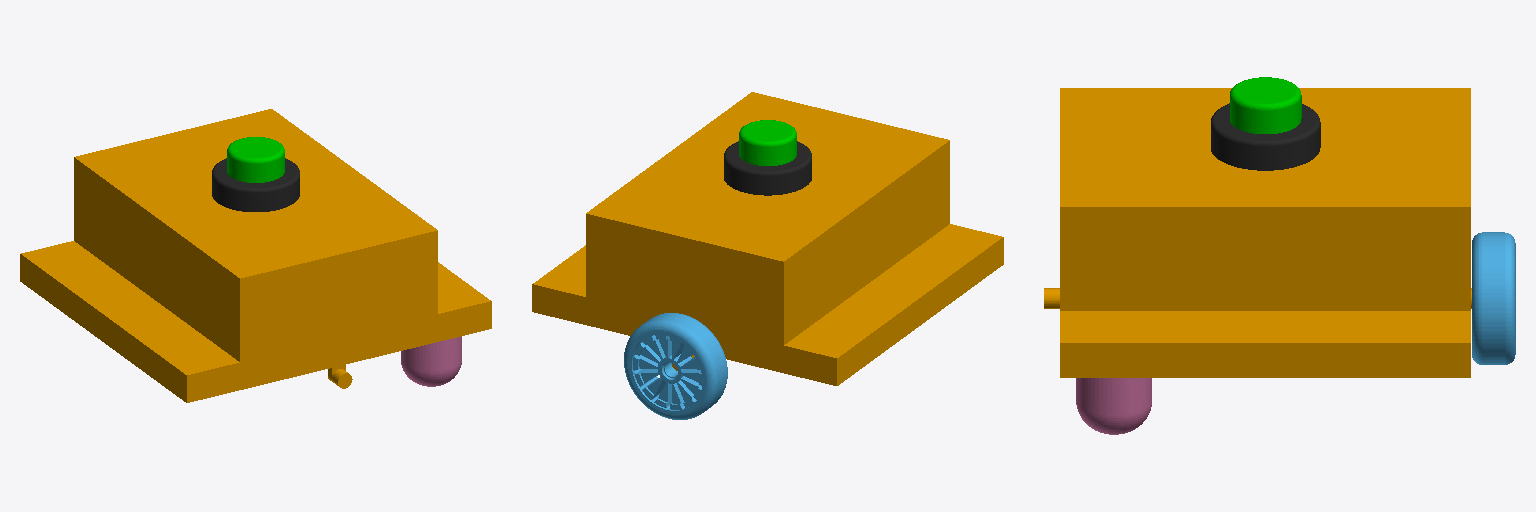
The robot description file, URDF, robot "sandee":
<?xml version="1.0" ?>

<robot name = "sandee">

<!--base-->

    <link name ="base_link">
        <visual>

            <origin xyz = "0 0 0" rpy = "0 0 0"/>
            <geometry>
                <mesh filename = "package://urdf_sim/model/meshes/Base.stl"/>      
            </geometry>

        </visual>

        <inertial>
            <mass value = "15"/> <!-- Kg -->
            <inertia ixx = "0.000214" ixy = "0.0" ixz = "0.0" iyy = "0.000156" iyz = "0.0" izz = "0.000315"/>
        </inertial>

        <collision>
            <origin xyz = "0 0 0" rpy = "0 0 0"/>
            <geometry>
                <mesh filename = "package://urdf_sim/model/meshes/Base.stl"/>       
            </geometry>
        </collision>

    </link>
    
    

<!--left_wheel-->

    <link name ="left_wheel_link">
        <visual>
            <origin xyz = "0 0 0" rpy = "0 0 0"/>
            <geometry>
                <mesh filename = "package://urdf_sim/model/meshes/Wheel_L.stl"/>         
            </geometry>
        </visual>

        <inertial>
            <mass value = "0.5"/> <!-- Kg -->
            <inertia ixx = "0.0" ixy = "0.0" ixz = "0.0" iyy = "0.000001" iyz = "0.0" izz = "0.0"/>
        </inertial>

        <collision>
            <origin xyz = "0 0 0" rpy = "0 0 0"/>
            <geometry>
                <mesh filename = "package://urdf_sim/model/meshes/Wheel_L.stl"/>       
            </geometry>
        </collision>

    </link>
       
    <joint name ="left_wheel_joint" type = "continuous">
        <origin xyz = "0 0.21 -0.0068" rpy = "0 0 0"/>
        <parent link = "base_link"/>
        <child link = "left_wheel_link"/>
        <limit effort = "30" velocity = "10"/>
        <axis rpy = "0 0 0" xyz = "0 1 0"/>
    </joint>


<!--right_wheel-->

    <link name ="right_wheel_link">
        <visual>
            <origin xyz = "0 0 0" rpy = "0 0 0"/>
            <geometry>
                <mesh filename = "package://urdf_sim/model/meshes/Wheel_R.stl"/>         
            </geometry>           
        </visual>

        <inertial>
            <mass value = "0.5"/> <!-- Kg -->
            <inertia ixx = "0.0" ixy = "0.0" ixz = "0.0" iyy = "0.000001" iyz = "0.0" izz = "0.0"/>
        </inertial>

        <collision>
            <origin xyz = "0 0 0" rpy = "0 0 0"/>
            <geometry>
                <mesh filename = "package://urdf_sim/model/meshes/Wheel_R.stl"/>       
            </geometry>
        </collision>

    </link>
       
    <joint name ="right_wheel_joint" type = "continuous">
        <origin xyz = "0 -0.21 -0.0068" rpy = "0 0 0"/>
        <parent link = "base_link"/>
        <child link = "right_wheel_link"/>
        <limit effort = "30" velocity = "10"/>
        <axis rpy = "0 0 0" xyz = "0 1 0"/>
    </joint>

<!--lidar_down-->

    <link name ="lidar_down_link">
        <visual>
            <origin xyz = "0 0 0" rpy = "0 0 0"/>
            <geometry>
                <mesh filename = "package://urdf_sim/model/meshes/Lidar_Down.stl"/>         
            </geometry>
            <material name="grey">
                <color rgba="0.2 0.2 0.2 1.0"/>
            </material>
        </visual>
        
        <inertial>
            <mass value = "0.15"/> <!-- Kg -->
            <inertia ixx = "0.0" ixy = "0.0" ixz = "0.0" iyy = "0.0" iyz = "0.0" izz = "0.0"/>
        </inertial>

        <collision>
            <origin xyz = "0 0 0" rpy = "0 0 0"/>
            <geometry>
                <mesh filename = "package://urdf_sim/model/meshes/Lidar_Down.stl"/>       
            </geometry>
        </collision>
 
    </link>
       
    <joint name ="lidar_down_joint" type = "fixed">
        <origin xyz = "0 0 0.172" rpy = "0 0 0"/>
        <parent link = "base_link"/>
        <child link = "lidar_down_link"/>
        <limit effort = "0" velocity = "0"/>
        <axis rpy = "0 0 0" xyz = "0 0 0"/>
    </joint>

<!--lidar_up-->
    <link name = "lidar_up_link">
        <visual>
            <origin xyz = "0 0 0" rpy = "0 0 0"/>
            <geometry>
                <mesh filename = "package://urdf_sim/model/meshes/Lidar_Up.stl"/>        
            </geometry>
            <material name="green">
                <color rgba="0.0 0.8 0.0 1.0"/>
            </material>
        </visual>

        <inertial>
            <mass value = "0.05"/> <!-- Kg -->
            <inertia ixx = "0.0" ixy = "0.0" ixz = "0.0" iyy = "0.0" iyz = "0.0" izz = "0.0"/>
        </inertial>

        <collision>
            <origin xyz = "0 0 0" rpy = "0 0 0"/>
            <geometry>
                <mesh filename = "package://urdf_sim/model/meshes/Lidar_Up.stl"/>       
            </geometry>
        </collision>

   </link>

    <joint name = "lidar_up_joint" type = "fixed">
        <origin xyz = "0 0 0.2" rpy = "0 0 0"/>
        <parent link = "base_link"/>
        <child link = "lidar_up_link"/>
        <limit effort = "0" velocity = "0"/>
        <axis rpy = "0 0 0" xyz = "0 0 0"/>
    </joint>

    <!--caster1-->

    <link name = "caster1_link">
        <visual>
            <origin xyz = "0 0 0" rpy = "0 0 0"/>
            <geometry>
                <mesh filename = "package://urdf_sim/model/meshes/Caster1.stl"/>        
            </geometry>
        </visual>

        <inertial>
            <mass value = "0.5"/> <!-- Kg -->
            <inertia ixx = "0.0" ixy = "0.0" ixz = "0.0" iyy = "0.0" iyz = "0.0" izz = "0.0"/>
        </inertial>

        <collision>
            <origin xyz = "0 0 0" rpy = "0 0 0"/>
            <geometry>
                <mesh filename = "package://urdf_sim/model/meshes/Caster1.stl"/>       
            </geometry>
        </collision>

    </link>

    <joint name = "caster1_joint" type = "fixed">
        <origin xyz = "0.15 0.139 -0.055" rpy = "0 0 0"/>
        <parent link = "base_link"/>
        <child link = "caster1_link"/>
        <limit effort = "0" velocity = "0"/>
        <axis rpy = "0 0 0" xyz = "0 0 0"/>
    </joint>


<!--caster2-->

    <link name = "caster2_link">
        <visual>
            <origin xyz = "0 0 0" rpy = "0 0 0"/>
            <geometry>
                <mesh filename = "package://urdf_sim/model/meshes/Caster2.stl"/>        
            </geometry>
        </visual>

        <inertial>
            <mass value = "0.5"/> <!-- Kg -->
            <inertia ixx = "0.0" ixy = "0.0" ixz = "0.0" iyy = "0.0" iyz = "0.0" izz = "0.0"/>
        </inertial>

        <collision>
            <origin xyz = "0 0 0" rpy = "0 0 0"/>
            <geometry>
                <mesh filename = "package://urdf_sim/model/meshes/Caster2.stl"/>       
            </geometry>
        </collision>

    </link>

    <joint name = "caster2_joint" type = "fixed">
        <origin xyz = "0.15 -0.139 -0.055" rpy = "0 0 0"/>
        <parent link = "base_link"/>
        <child link = "caster2_link"/>
        <limit effort = "0" velocity = "0"/>
        <axis rpy = "0 0 0" xyz = "0 0 0"/>
    </joint>


<!--caster3-->

     <link name = "caster3_link">
        <visual>
            <origin xyz = "0 0 0" rpy = "0 0 0"/>
            <geometry>
                <mesh filename = "package://urdf_sim/model/meshes/Caster3.stl"/>        
            </geometry>
        </visual>

        <inertial>
            <mass value = "0.5"/> <!-- Kg -->
            <inertia ixx = "0.0" ixy = "0.0" ixz = "0.0" iyy = "0.0" iyz = "0.0" izz = "0.0"/>
        </inertial>

        <collision>
            <origin xyz = "0 0 0" rpy = "0 0 0"/>
            <geometry>
                <mesh filename = "package://urdf_sim/model/meshes/Caster3.stl"/>       
            </geometry>
        </collision>

    </link>

    <joint name = "caster3_joint" type = "fixed">
        <origin xyz = "-0.15 0.139 -0.055" rpy = "0 0 0"/>
        <parent link = "base_link"/>
        <child link = "caster3_link"/>
        <limit effort = "0" velocity = "0"/>
        <axis rpy = "0 0 0" xyz = "0 0 0"/>
    </joint>


<!--caster4-->

     <link name = "caster4_link">
        <visual>
            <origin xyz = "0 0 0" rpy = "0 0 0"/>
            <geometry>
                <mesh filename = "package://urdf_sim/model/meshes/Caster4.stl"/>        
            </geometry>
        </visual>

        <inertial>
            <mass value = "0.5"/> <!-- Kg -->
            <inertia ixx = "0.0" ixy = "0.0" ixz = "0.0" iyy = "0.0" iyz = "0.0" izz = "0.0"/>
        </inertial>

        <collision>
            <origin xyz = "0 0 0" rpy = "0 0 0"/>
            <geometry>
                <mesh filename = "package://urdf_sim/model/meshes/Caster4.stl"/>       
            </geometry>
        </collision>
 

    </link>

    <joint name = "caster4_joint" type = "fixed">
        <origin xyz = "-0.15 -0.139 -0.055" rpy = "0 0 0"/>
        <parent link = "base_link"/>
        <child link = "caster4_link"/>
        <limit effort = "0" velocity = "0"/>
        <axis rpy = "0 0 0" xyz = "0 0 0"/>
    </joint>
    
<!--Gazebo-->
    <gazebo reference = "base_link">
        <material> Gazebo/Green </material>
    </gazebo>

    <gazebo reference = "left_wheel_link">
        <material> Gazebo/Yellow </material>
        <mu1 value = "0.3"/>
        <mu2 value = "0.28"/>
        <kp value = "2000"/>
        <kd value = "100"/>
    </gazebo>

    <gazebo reference = "right_wheel_link">
        <material> Gazebo/Purple </material>
        <mu1 value = "0.3"/>
        <mu2 value = "0.28"/>
        <kp value = "2000"/>
        <kd value = "100"/>
    </gazebo>

    <gazebo reference = "lidar_up_link">
        <material> Gazebo/Indigo </material>
    </gazebo>

    <gazebo reference = "lidar_down_link">
        <material> Gazebo/Orange </material>
    </gazebo>

    <gazebo reference = "caster1_link">
        <material> Gazebo/BlueGlow </material>
        <mu1 value = "0.003"/>
        <mu2 value = "0.0028"/>
        <kp value = "3000"/>
        <kd value = "100"/>
    </gazebo>

    <gazebo reference = "caster2_link">
        <material> Gazebo/YellowGlow </material>
        <mu1 value = "0.003"/>
        <mu2 value = "0.0028"/>
        <kp value = "3000"/>
        <kd value = "100"/>
    </gazebo>

    <gazebo reference = "caster3_link">
        <material> Gazebo/PurpleGlow </material>
        <mu1 value = "0.003"/>
        <mu2 value = "0.0028"/>
        <kp value = "3000"/>
        <kd value = "100"/>
    </gazebo>

    <gazebo reference = "caster4_link">
        <material> Gazebo/TurquoiseGlow  </material>
        <mu1 value = "0.003"/>
        <mu2 value = "0.0028"/>
        <kp value = "3000"/>
        <kd value = "100"/>
    </gazebo>

    <gazebo>
    <plugin filename = "libgazebo_ros_diff_drive.so" name = "differential_drive_controller">
        <alwatsOn>true</alwatsOn>
        <updateRate>20</updateRate>
        <leftJoint>left_wheel_joint</leftJoint>
        <rightJoint>right_wheel_joint</rightJoint>
        <wheelSeparation>4.2</wheelSeparation>
        <wheelDiameter>2.4384</wheelDiameter>
        <torque>3.4</torque>
        <commandTopic>cmd_vel</commandTopic>
        <odometryTopic>odom</odometryTopic>
        <odometryFrame>odom</odometryFrame>
        <robotBaseFrame>base_link</robotBaseFrame>
    </plugin>
    </gazebo>

<!--Lidar-->
    <gazebo reference = "lidar_up_link">
        <sensor type = "ray" name ="sandee_laser_sensor">
        <pose>0 0 0 0 0 0</pose>
        <visualize>false</visualize>
        <update_rate>5.5</update_rate>
        <ray>
            <scan>
                <horizontal>
                    <samples>720</samples>
                    <resolution>1</resolution>
                    <min_angle>-3.14</min_angle>
                    <max_angle>3.14</max_angle>
                </horizontal>
            </scan>

            <range>
                <min>0.3</min>
                <max>12.0</max>
                <resolution>0.01</resolution> 
            </range>

            <noise>
                <type>gaussian</type>
                <mean>0.0</mean>
                <stddev>0.01</stddev>
            </noise>
        </ray>

        <plugin name = "gazebo_ros_head_hokuyo_controller" filename = "libgazebo_ros_laser.so">
        <topicName>/sandee/laser/scan</topicName>
        <frameName>lidar_up_link</frameName>
        </plugin>
        </sensor>
    </gazebo>

<!--IMU-->
    <gazebo reference = "base_link">
        <gravity>true</gravity>
        <sensor name = "sandee_imu_sensor" type ="imu">
            <always_on>true</always_on>
            <update_rate>100</update_rate>
            <visualize>true</visualize>
            <topic>__default_topic__</topic>
            <plugin filename ="libgazebo_ros_imu_sensor.so" name="imu_plugin">
                <topicName>sandee/imu</topicName>
                <bodyName>base_link</bodyName>
                <updateRateHZ>10.0</updateRateHZ>
                <gaussianNoise>0.0</gaussianNoise>
                <xyzOffset>0 0 0</xyzOffset>
                <rpyOffset>0 0 0</rpyOffset>
                <frameName>base_link</frameName>
                <initialOrientationAsReference>false</initialOrientationAsReference>
            </plugin>
            <pose>0 0 0 0 0 0</pose>
        </sensor>
    </gazebo>
    
</robot>

--- Facts derived from the render (not from the file) ---
Views: 3 orthographic renders of the robot side by side, from view 1: azimuth 30°, elevation 25°; view 2: azimuth 150°, elevation 25°; view 3: azimuth 270°, elevation 25°.
Model sandee with 9 links and 8 joints (2 continuous, 6 fixed), rooted at base_link, posed all joints at 0.
Links seen in each view (by area): view 1: base_link, lidar_down_link, lidar_up_link, caster2_link; view 2: base_link, left_wheel_link, lidar_down_link, lidar_up_link; view 3: base_link, left_wheel_link, lidar_down_link, caster2_link, lidar_up_link.
Boxes of the visible links, x1,y1,x2,y2 form: base_link: (20, 109, 491, 402); lidar_down_link: (212, 158, 299, 211); lidar_up_link: (227, 137, 284, 182); caster2_link: (401, 336, 461, 386); base_link: (532, 92, 1003, 385); left_wheel_link: (624, 313, 727, 419); lidar_down_link: (724, 141, 811, 195); lidar_up_link: (739, 120, 796, 165); base_link: (1044, 88, 1471, 377); left_wheel_link: (1472, 232, 1515, 364); lidar_down_link: (1211, 103, 1320, 170); caster2_link: (1076, 378, 1151, 434); lidar_up_link: (1230, 77, 1301, 133).
Size in the robot's own frame: 0.4 by 0.4325 by 0.2733 metres.
Meshes: 9 distinct files referenced, 5 mesh visuals loaded (5 binary STL); not drawn: 4 (reference not matched to a file when rendering).
